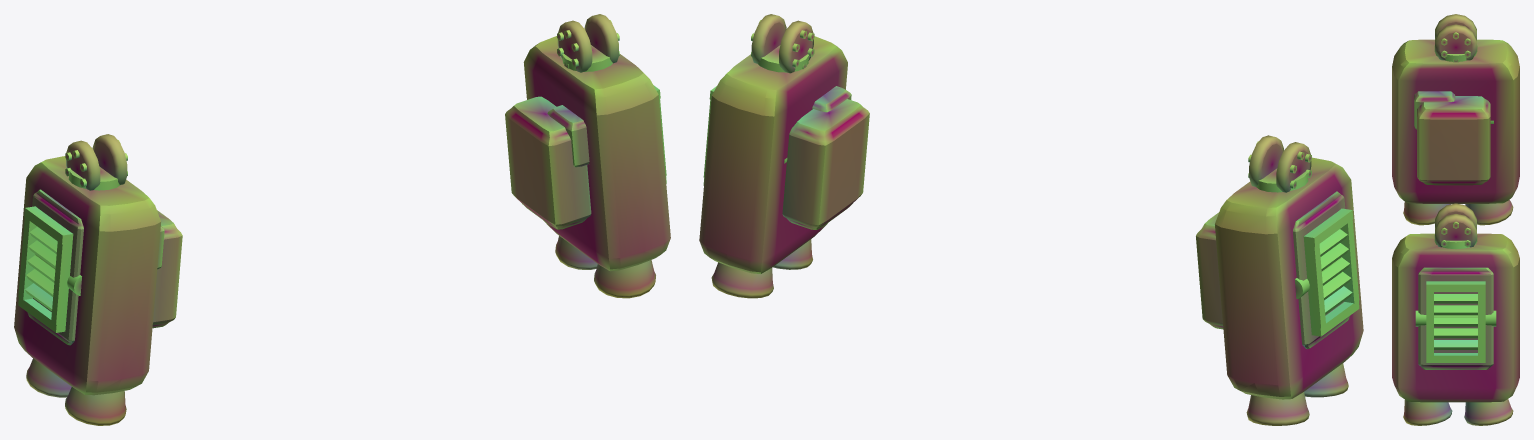
Rendered from llm_gen_leg_thrusters_114_5bce26.glb.
The picture shows the model from 3 angles, left to right: view 1: azimuth 30°, elevation 25°; view 2: azimuth 150°, elevation 25°; view 3: azimuth 270°, elevation 25°; orthographic projection. The views are drawn at different scales.
Parts seen in each view (by area): view 1: flare_cowling_main_0_barrel_metal_l, flare_cowling_main_0_barrel_metal_r, adapter_calf_clamp_r, adapter_sub_flare_louver_gold_3_dark_l, adapter_sub_louver_frame_dark_1_adapter_dark_l, adapter_calf_clamp_l, servo_5_servo_accent_r, servo_5_servo_accent_l, flare_louver_gold_3_gold_l, flare_bell_fwd_6_vernier_bell_vernier_l, flare_bell_fwd_6_vernier_bell_vernier_r, adapter_leg_knee_mount_dark_8_adapter_dark_r (+2 smaller); view 2: flare_cowling_main_0_barrel_metal_l, flare_cowling_main_0_barrel_metal_r, adapter_calf_clamp_r, adapter_sub_flare_louver_gold_3_dark_l, adapter_sub_louver_frame_dark_1_adapter_dark_l, servo_5_servo_accent_r, servo_5_servo_accent_l, adapter_calf_clamp_l, flare_louver_gold_3_gold_l, flare_bell_aft_7_vernier_bell_vernier_l, flare_bell_aft_7_vernier_bell_vernier_r, flare_bell_fwd_6_vernier_bell_vernier_l (+1 smaller); view 3: flare_cowling_main_0_barrel_metal_l, flare_cowling_main_0_barrel_metal_r, adapter_calf_clamp_l, adapter_sub_louver_frame_dark_1_adapter_dark_r, flare_louver_gold_3_gold_r, adapter_sub_flare_louver_gold_3_dark_r, servo_5_servo_accent_l, servo_5_servo_accent_r, flare_bell_aft_7_vernier_bell_vernier_r, flare_bell_fwd_6_vernier_bell_vernier_r, flare_bell_aft_7_vernier_bell_vernier_l, flare_bell_fwd_6_vernier_bell_vernier_l (+6 smaller).
Part boxes in pixels (x1=…): flare_cowling_main_0_barrel_metal_l: x1=14, y1=156, x2=160, y2=395; flare_cowling_main_0_barrel_metal_r: x1=523, y1=36, x2=670, y2=271; adapter_calf_clamp_r: x1=505, y1=96, x2=591, y2=229; adapter_sub_flare_louver_gold_3_dark_l: x1=18, y1=206, x2=73, y2=332; adapter_sub_louver_frame_dark_1_adapter_dark_l: x1=27, y1=189, x2=83, y2=345; adapter_calf_clamp_l: x1=152, y1=210, x2=182, y2=328; servo_5_servo_accent_r: x1=557, y1=14, x2=618, y2=72; servo_5_servo_accent_l: x1=66, y1=134, x2=127, y2=190; flare_louver_gold_3_gold_l: x1=25, y1=226, x2=57, y2=311; flare_bell_fwd_6_vernier_bell_vernier_l: x1=65, y1=387, x2=126, y2=425; flare_bell_fwd_6_vernier_bell_vernier_r: x1=594, y1=260, x2=655, y2=298; adapter_leg_knee_mount_dark_8_adapter_dark_r: x1=547, y1=105, x2=589, y2=167; flare_cowling_main_0_barrel_metal_l: x1=1215, y1=157, x2=1363, y2=399; flare_cowling_main_0_barrel_metal_r: x1=699, y1=36, x2=847, y2=273; adapter_calf_clamp_r: x1=782, y1=99, x2=869, y2=229; adapter_sub_flare_louver_gold_3_dark_l: x1=1303, y1=208, x2=1359, y2=336; adapter_sub_louver_frame_dark_1_adapter_dark_l: x1=1293, y1=191, x2=1349, y2=348; servo_5_servo_accent_r: x1=751, y1=14, x2=813, y2=73; servo_5_servo_accent_l: x1=1249, y1=135, x2=1311, y2=192; adapter_calf_clamp_l: x1=1196, y1=212, x2=1223, y2=329; flare_louver_gold_3_gold_l: x1=1319, y1=229, x2=1352, y2=314; flare_bell_aft_7_vernier_bell_vernier_l: x1=1246, y1=392, x2=1309, y2=425; flare_bell_aft_7_vernier_bell_vernier_r: x1=711, y1=262, x2=773, y2=298; flare_bell_fwd_6_vernier_bell_vernier_l: x1=1304, y1=363, x2=1348, y2=397; flare_cowling_main_0_barrel_metal_l: x1=1392, y1=39, x2=1519, y2=203; flare_cowling_main_0_barrel_metal_r: x1=1392, y1=233, x2=1519, y2=402; adapter_calf_clamp_l: x1=1417, y1=96, x2=1490, y2=185; adapter_sub_louver_frame_dark_1_adapter_dark_r: x1=1418, y1=267, x2=1493, y2=369; flare_louver_gold_3_gold_r: x1=1434, y1=294, x2=1477, y2=349; adapter_sub_flare_louver_gold_3_dark_r: x1=1426, y1=281, x2=1485, y2=362; servo_5_servo_accent_l: x1=1435, y1=14, x2=1476, y2=60; servo_5_servo_accent_r: x1=1435, y1=203, x2=1476, y2=247; flare_bell_aft_7_vernier_bell_vernier_r: x1=1464, y1=399, x2=1513, y2=425; flare_bell_fwd_6_vernier_bell_vernier_r: x1=1403, y1=400, x2=1452, y2=425; flare_bell_aft_7_vernier_bell_vernier_l: x1=1465, y1=200, x2=1513, y2=225; flare_bell_fwd_6_vernier_bell_vernier_l: x1=1403, y1=201, x2=1450, y2=225.
Size of the model in its own units: 83.2 by 33.52 by 19.08.
